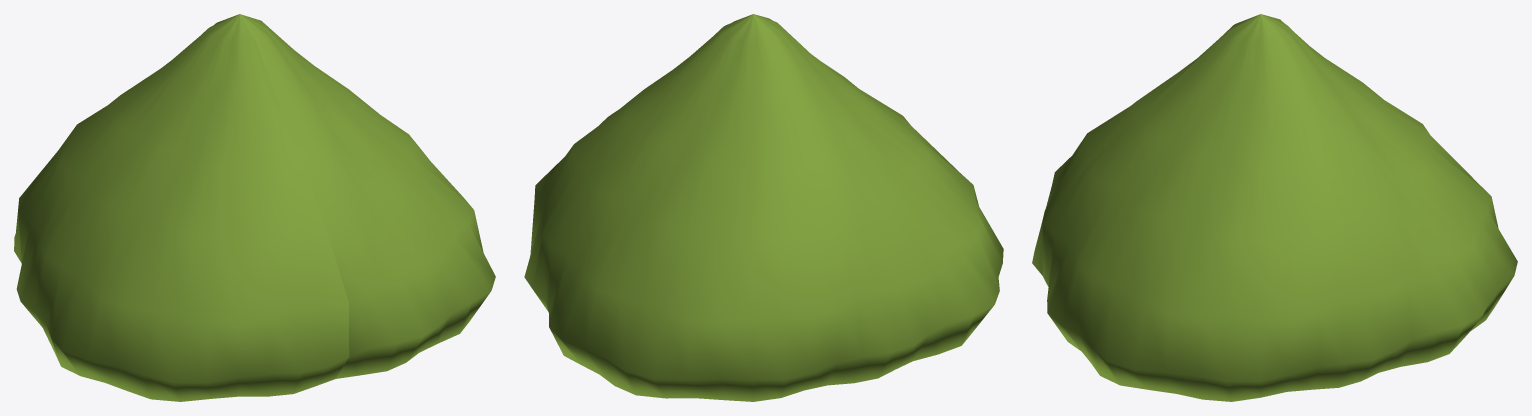
The model's file is wasabi.glb.
3 renders of one model, left to right at view 1: azimuth 30°, elevation 25°; view 2: azimuth 150°, elevation 25°; view 3: azimuth 270°, elevation 25°, orthographic.
Parts seen in each view (by area): view 1: wasabi-1; view 2: wasabi-1; view 3: wasabi-1.
Part boxes in pixels (bbox=[...]): wasabi-1: bbox=[14, 14, 495, 401]; wasabi-1: bbox=[524, 14, 1003, 401]; wasabi-1: bbox=[1032, 14, 1517, 401].
Bounding box in the file's own units: 0.083 × 0.055 × 0.0824.
